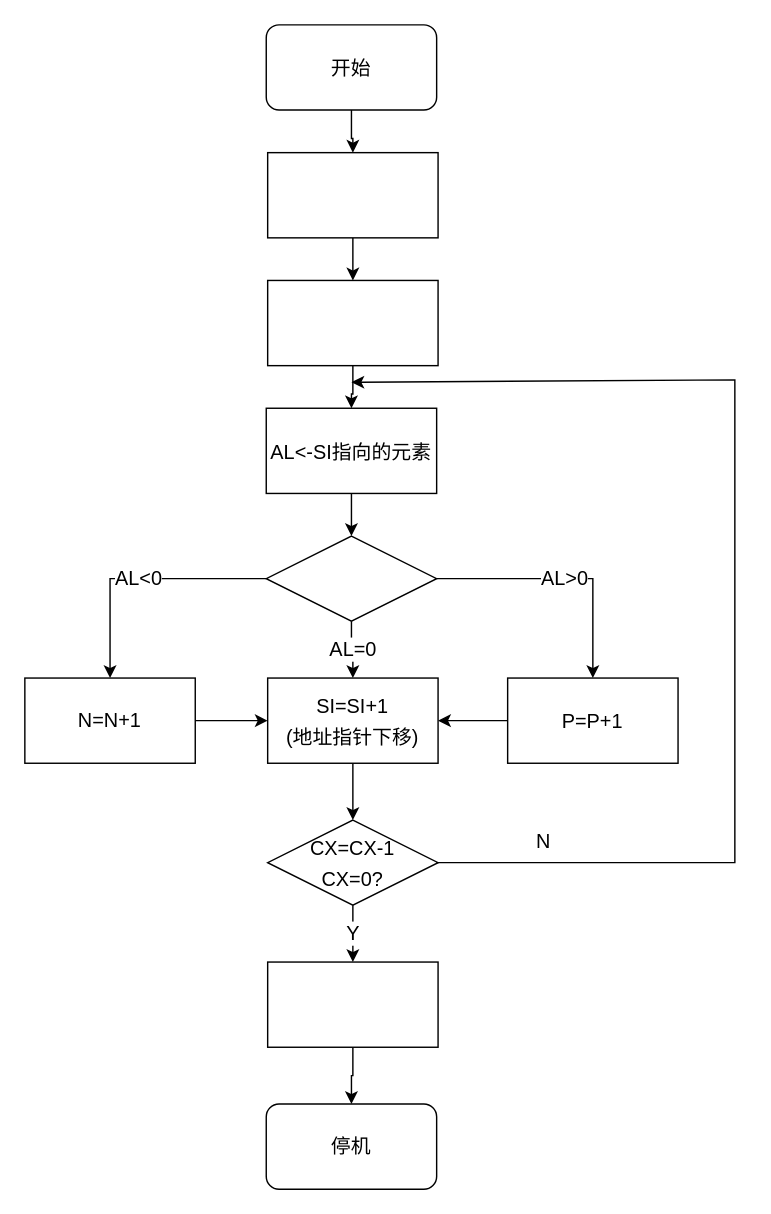
Some shapes in this 771 by 1214 pixel diagram are drawn without their labels. Each missing label, with the centre of its shape:
CX<-20(循环20次): point 352,322
SI<-数据区首地址: point 352,194
输出P=05 输出N=15: point 352,1004
